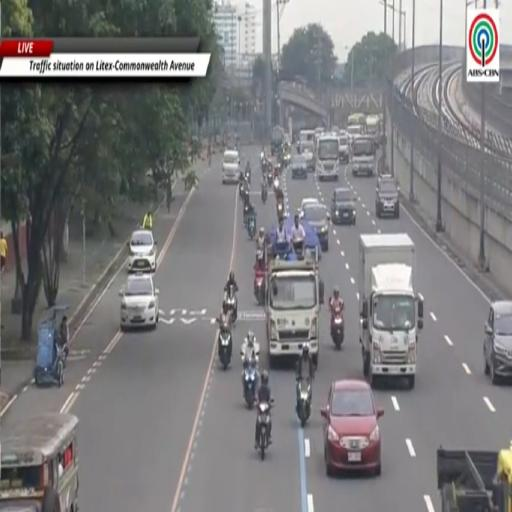car: (321, 379, 383, 475), (484, 300, 511, 385), (120, 274, 158, 330), (303, 204, 330, 251), (128, 230, 157, 273), (375, 179, 400, 219), (331, 188, 356, 225), (222, 151, 240, 184), (299, 198, 320, 218), (291, 155, 307, 179), (339, 134, 350, 164), (302, 149, 314, 172)
jeepney: (0, 413, 78, 511)
motorcycle: (257, 399, 273, 460), (296, 379, 311, 427), (244, 362, 258, 410), (218, 324, 232, 370), (331, 307, 344, 350), (225, 286, 237, 324), (255, 274, 264, 306), (292, 240, 304, 259), (238, 179, 246, 200), (248, 215, 255, 239), (243, 202, 249, 228), (277, 202, 284, 220), (267, 169, 273, 186), (283, 154, 290, 168), (261, 187, 267, 203), (245, 169, 251, 184), (273, 178, 279, 190)
tricycle: (34, 306, 68, 387)
truck: (358, 234, 423, 389), (265, 249, 323, 367), (437, 446, 511, 511), (315, 135, 339, 181), (350, 136, 377, 175), (366, 116, 380, 139)
